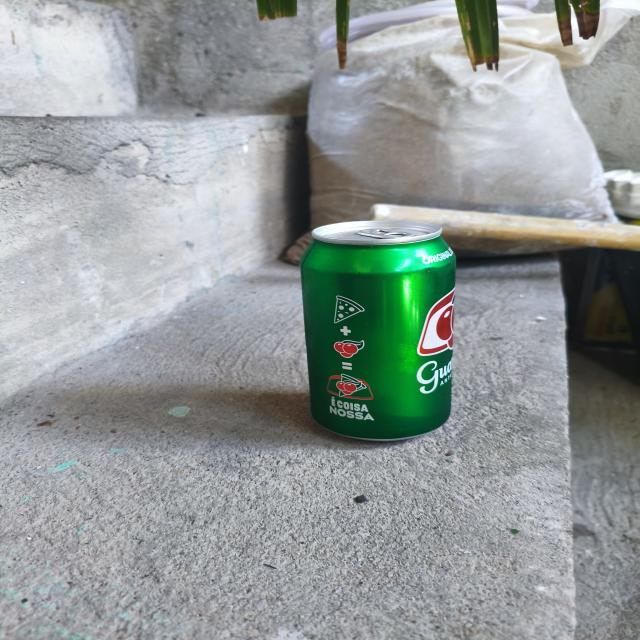Guarana: (281, 215, 474, 457)
